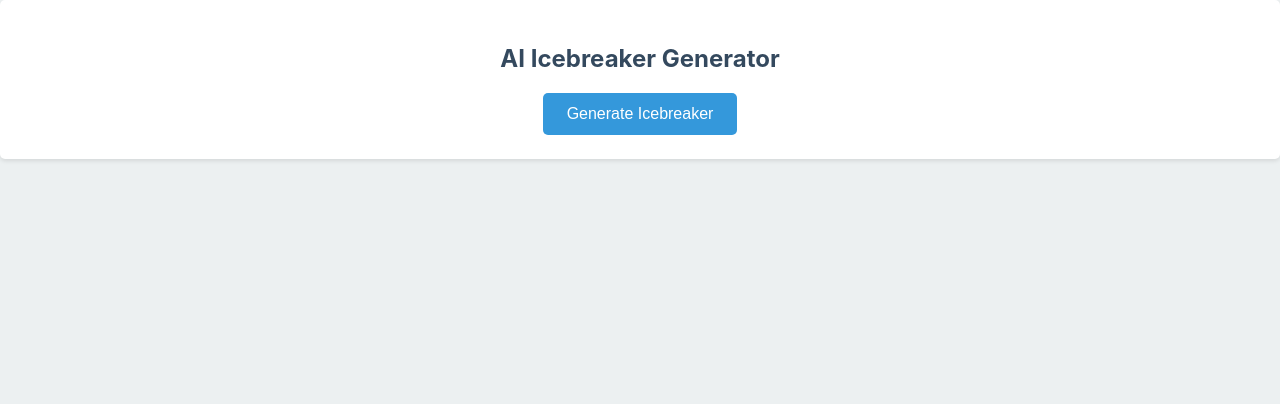
Test: IcebreakerGenerator Accessibility › button indicates loading state via aria-busy
The image size is (1280, 404).
Later steps or results of the test are not shown.
Step 1. Click the button "Generate Icebreaker" → (640, 114), box [543, 93, 737, 135]
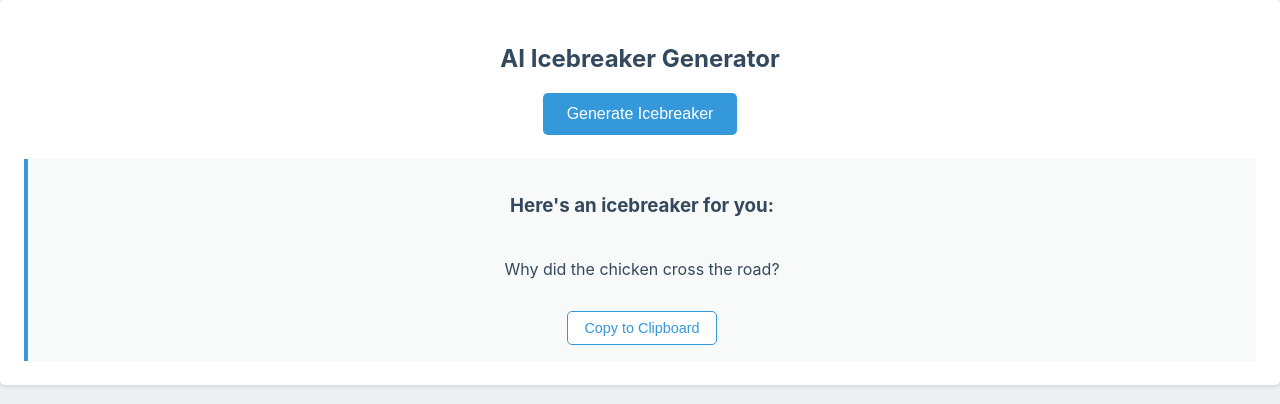
Result: the text "Why did the chicken cross the road?" is shown at [504, 259, 780, 279]
